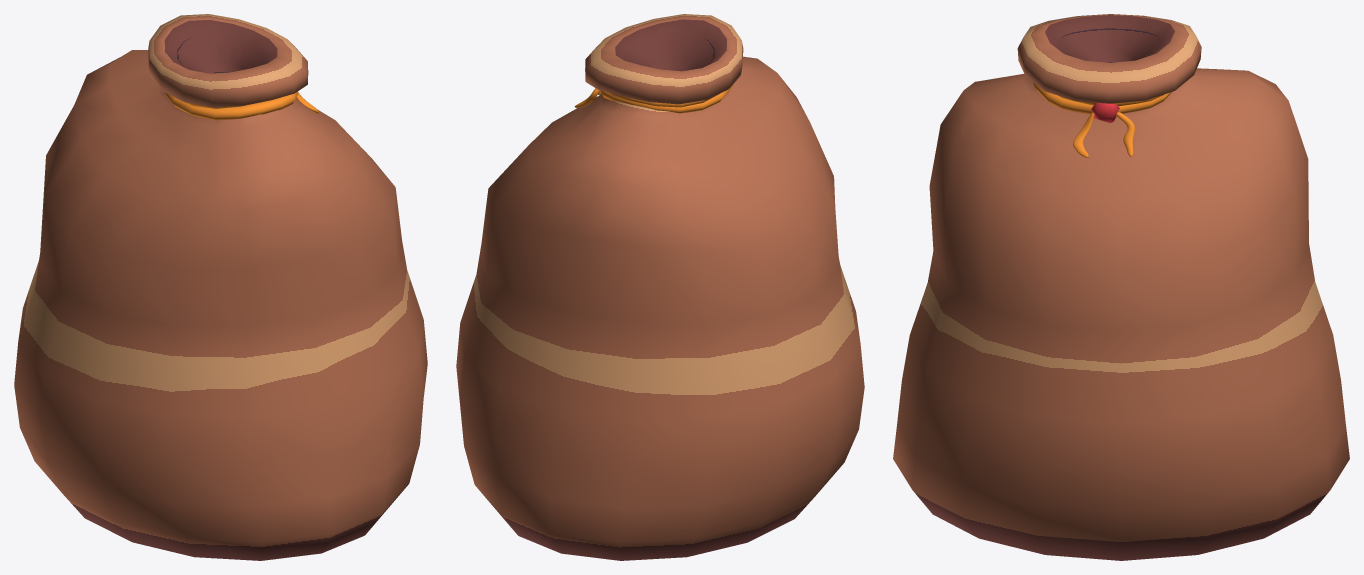
The model's file is Bolsa_01.fbx.
The picture shows the model from 3 angles, left to right: view 1: azimuth 30°, elevation 25°; view 2: azimuth 150°, elevation 25°; view 3: azimuth 270°, elevation 25°; orthographic projection. The views are drawn at different scales.
Parts seen in each view (by area): view 1: Bolsa_01; view 2: Bolsa_01; view 3: Bolsa_01.
Boxes of the visible parts, box(x1,y1,x2,y2) form: Bolsa_01: box(14, 14, 427, 560); Bolsa_01: box(456, 14, 864, 560); Bolsa_01: box(893, 14, 1349, 560).
Bounding box in the file's own units: 108 × 132 × 116.
